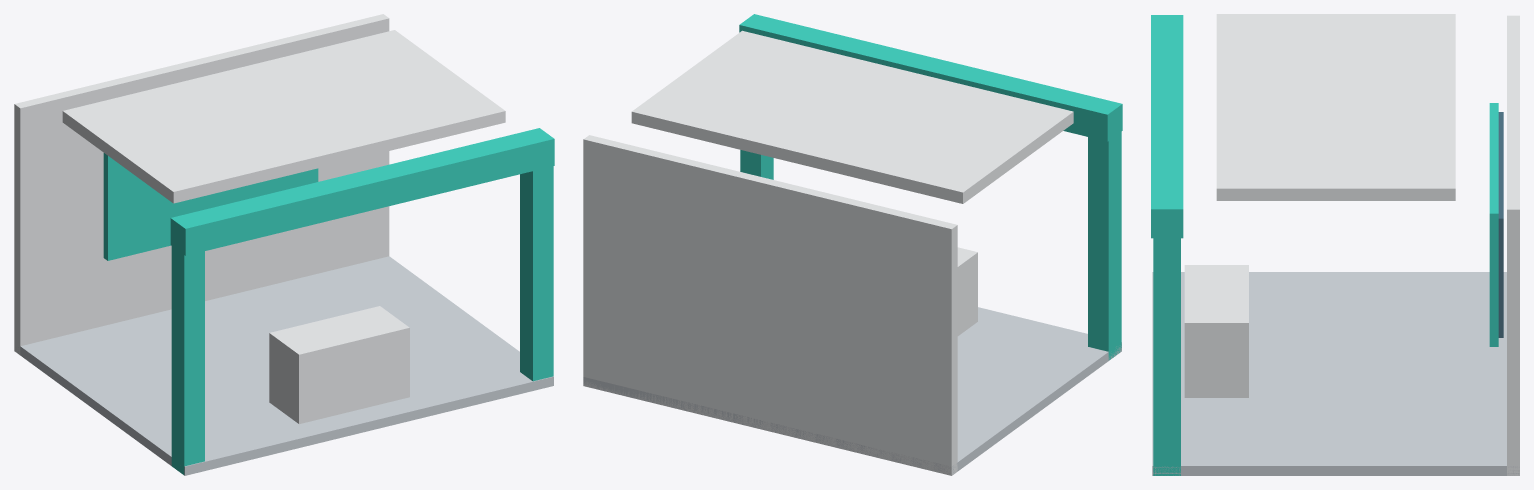
The picture shows the model from 3 angles, left to right: view 1: azimuth 30°, elevation 25°; view 2: azimuth 150°, elevation 25°; view 3: azimuth 270°, elevation 25°; orthographic projection. The views are drawn at different scales.
Visible parts, largest first — view 1: Exhibition Booth Concept; view 2: Exhibition Booth Concept; view 3: Exhibition Booth Concept.
Boxes of the visible parts, x1,y1,x2,y2 form: Exhibition Booth Concept: (14,14,554,475); Exhibition Booth Concept: (583,14,1122,475); Exhibition Booth Concept: (1151,14,1519,475).
Size of the model in its own units: 5 by 3.34 by 4.02.
